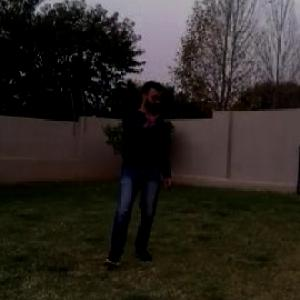takeoff-hand: (142, 106, 164, 136)
